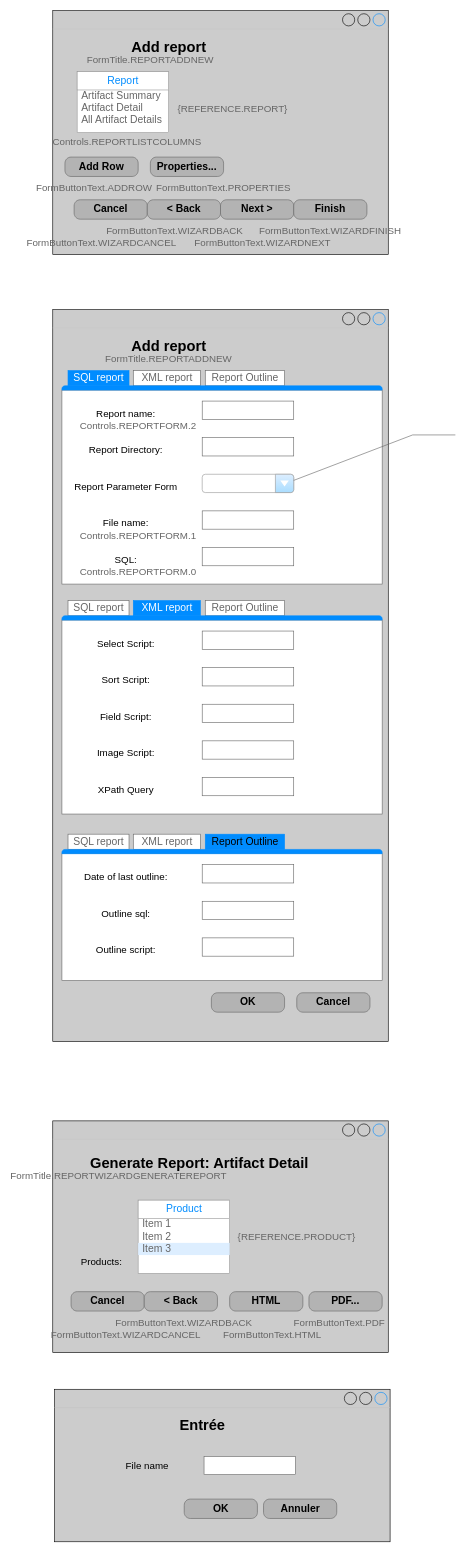
The diagram is 466 pixels wide and 1552 high, and some of its shapes have lost their labels. Each missing label, with the box of its shape:
Application.REPORTFORM: (52, 309, 388, 1042)
Application.REPORTLISTCOLUMNS: (52, 10, 388, 255)
Application.REPORTPARAMETERFORM: (52, 1120, 388, 1353)
REFERENCE.VIEW: (293, 419, 455, 480)
Window Title: (54, 1389, 390, 1542)
